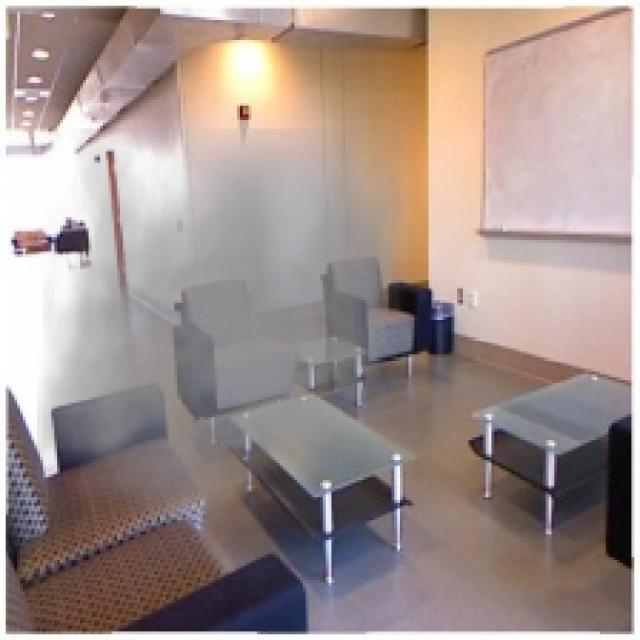smoke: (37, 128, 406, 543)
